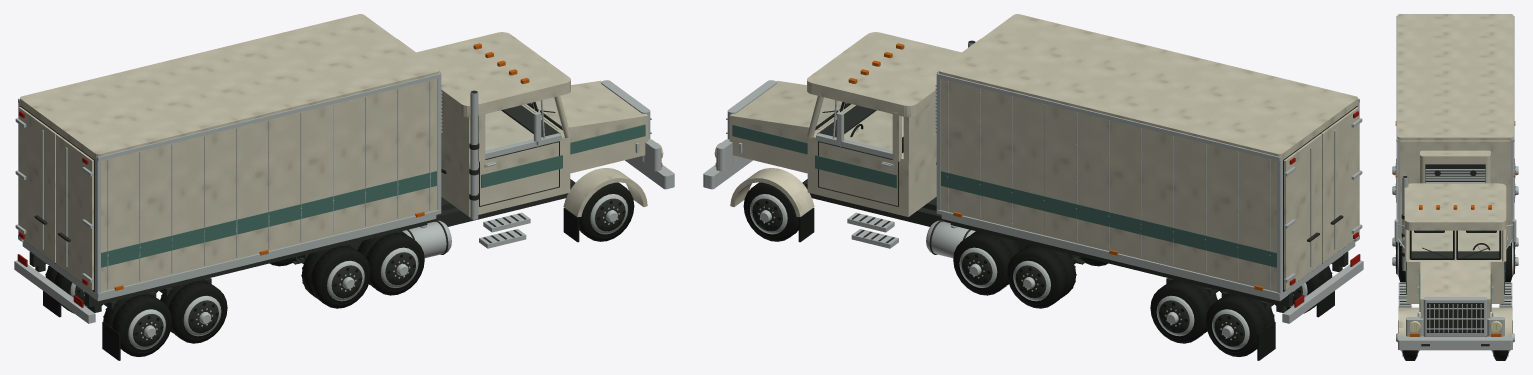
The model's file is SM_Mesa_Truck.glb.
3 renders of one model, left to right at view 1: azimuth 30°, elevation 25°; view 2: azimuth 150°, elevation 25°; view 3: azimuth 270°, elevation 25°, orthographic. The views are drawn at different scales.
Visible parts, largest first — view 1: SM_Mesa_Truck; view 2: SM_Mesa_Truck; view 3: SM_Mesa_Truck.
Boxes of the visible parts, x1,y1,x2,y2 form: SM_Mesa_Truck: (14,14,674,360); SM_Mesa_Truck: (703,14,1363,360); SM_Mesa_Truck: (1392,14,1518,360).
Size of the model in its own units: 10.93 by 3.85 by 2.77.
9 materials, 1 textured.
